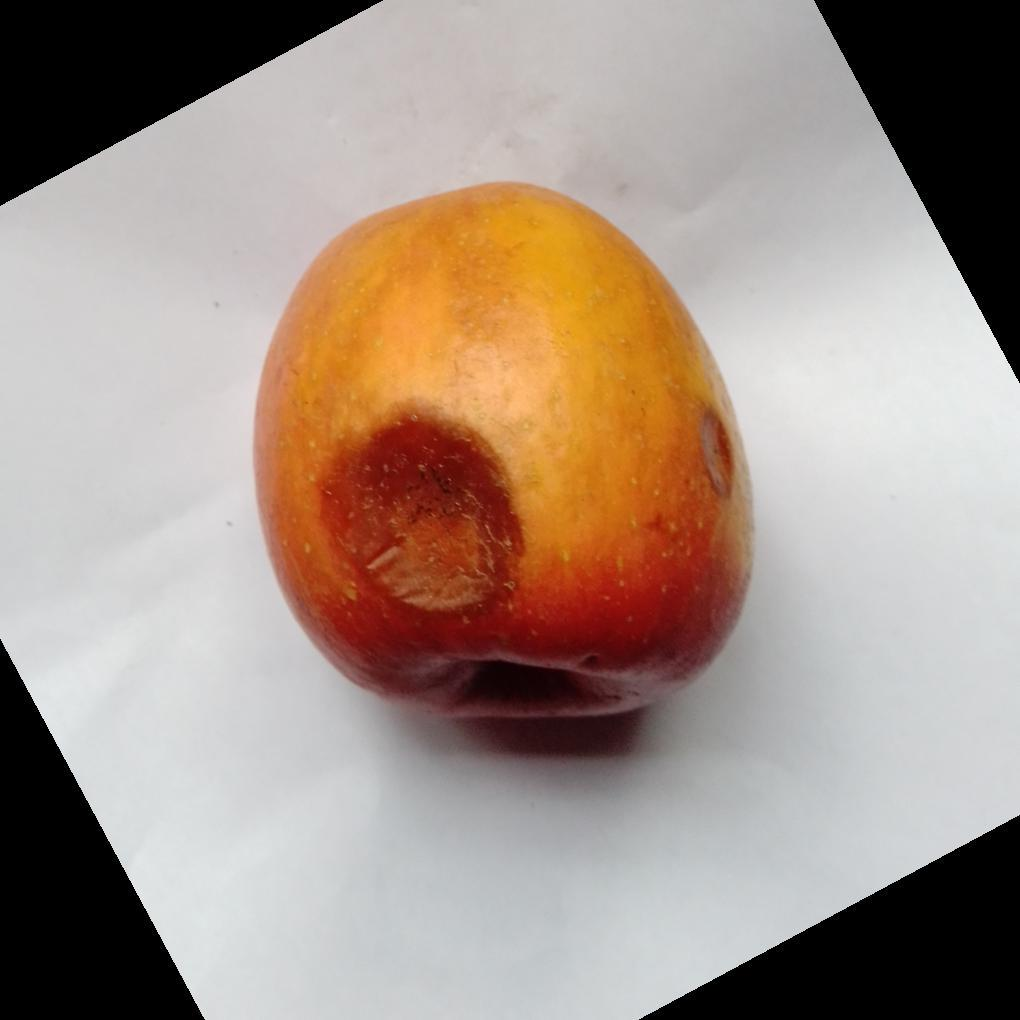FreshOrange: (250, 183, 756, 728)
